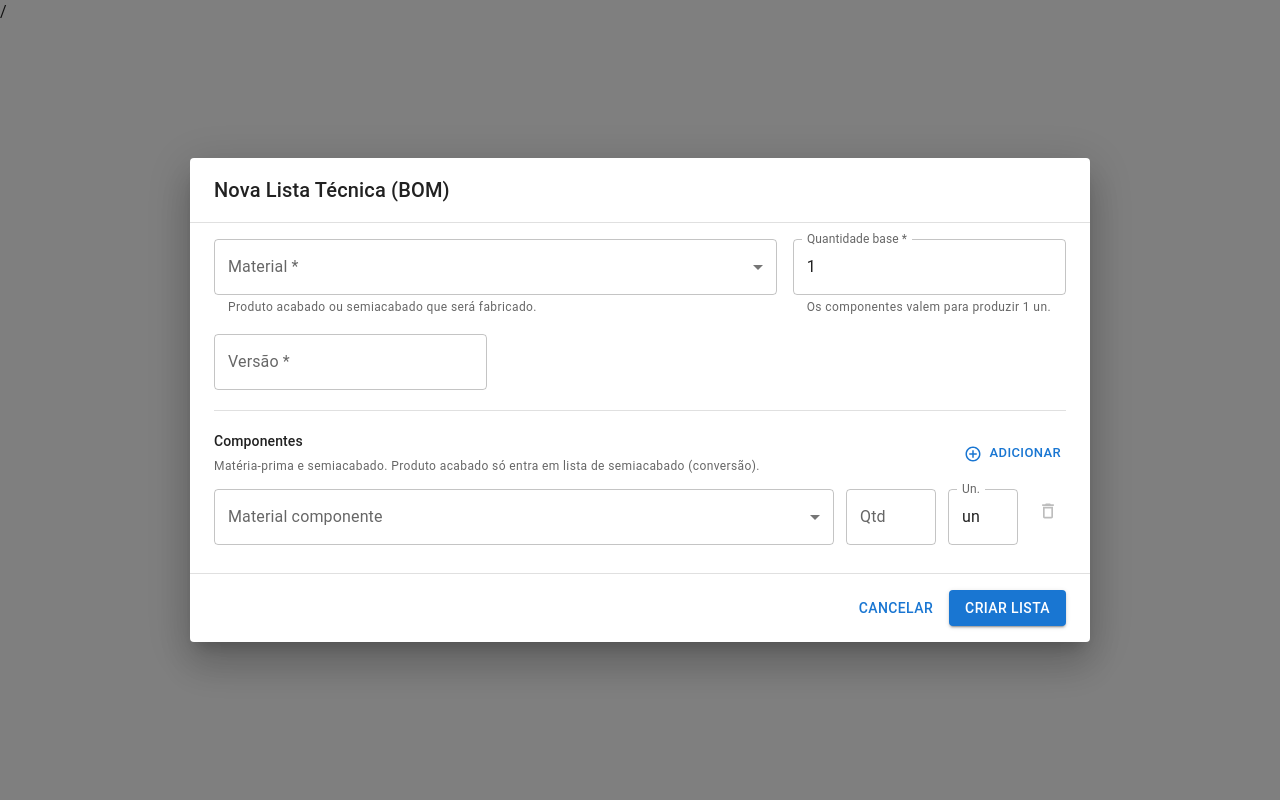
Test case: CriarListaTecnicaDialog › do zero › exige material, versão e ao menos um componente
Click the button "Criar Lista" at (1008, 608), box [949,590,1066,626]
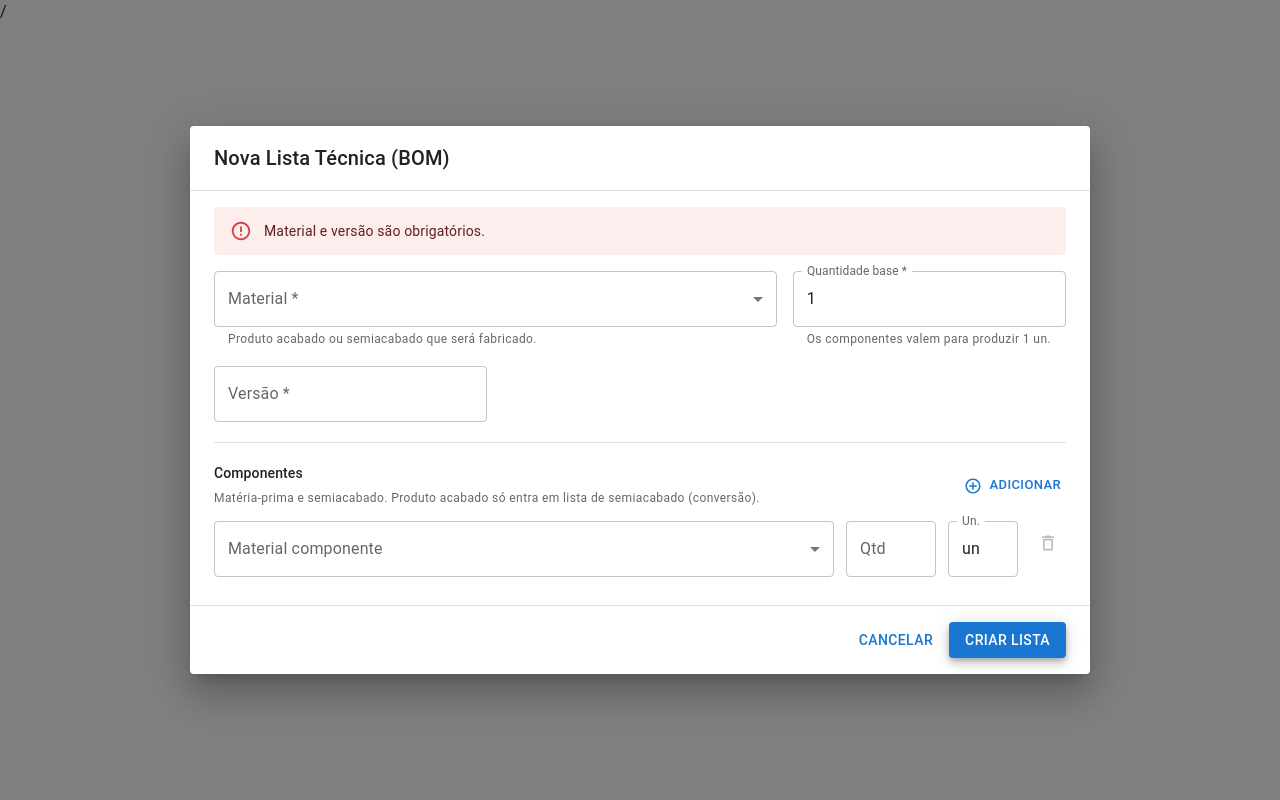
Now the text "Material e versão são obrigatórios." is shown, box [264,223,485,239]
